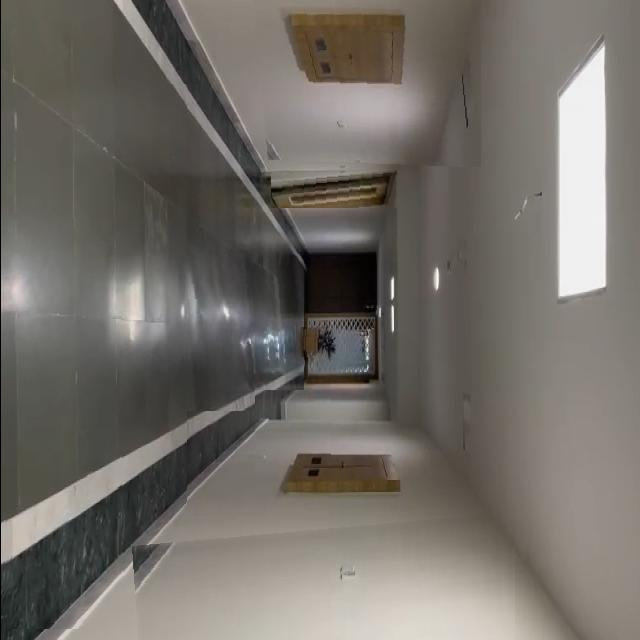door: (270, 163, 400, 208)
floor: (0, 16, 186, 630), (145, 246, 303, 411)
furniture: (295, 328, 337, 360)
wall: (131, 512, 514, 640), (252, 0, 480, 168), (254, 390, 398, 464)
